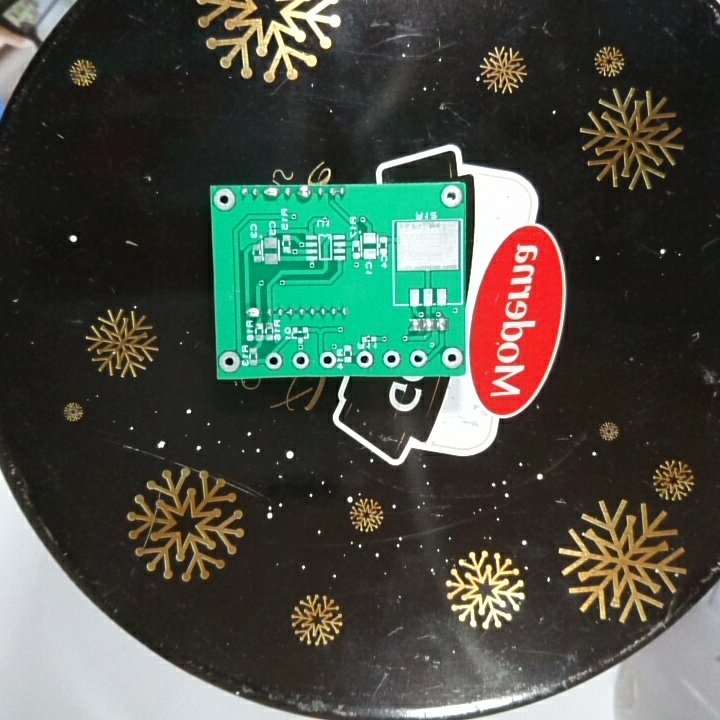F: (211, 186, 237, 212), (439, 345, 466, 369), (439, 185, 463, 209), (218, 349, 240, 374), (263, 349, 285, 372), (381, 349, 402, 370), (407, 347, 427, 368), (291, 350, 310, 372), (317, 349, 336, 371), (354, 349, 374, 369)
P: (294, 185, 312, 200), (244, 306, 264, 319), (262, 186, 280, 200)
